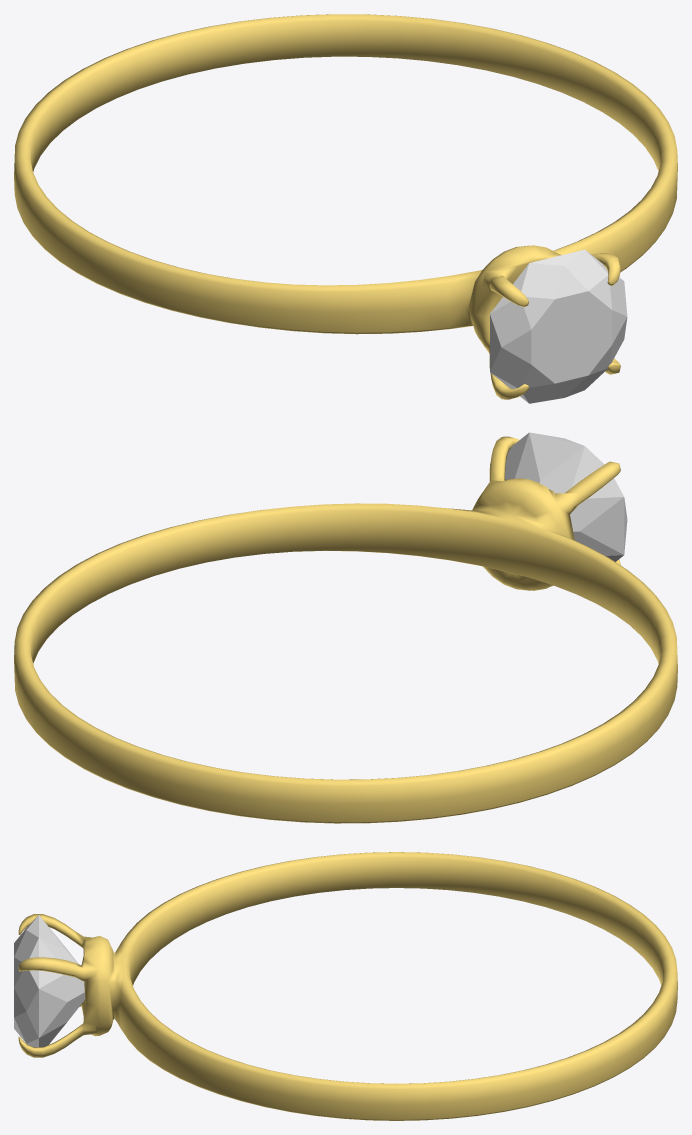
Rendered from Diamond.fbx.
The picture shows the model from 3 angles, top to bottom: view 1: azimuth 30°, elevation 25°; view 2: azimuth 150°, elevation 25°; view 3: azimuth 270°, elevation 25°; orthographic projection. The views are drawn at different scales.
Parts seen in each view (by area): view 1: Cylinder, Gem; view 2: Cylinder, Gem; view 3: Cylinder, Gem.
Boxes of the visible parts, x1,y1,x2,y2 form: Cylinder: (14,14,677,399); Gem: (490,249,627,403); Cylinder: (14,436,677,823); Gem: (490,432,627,561); Cylinder: (18,852,677,1120); Gem: (14,915,85,1047).
Bounding box in the file's own units: 199 × 46.43 × 234.
